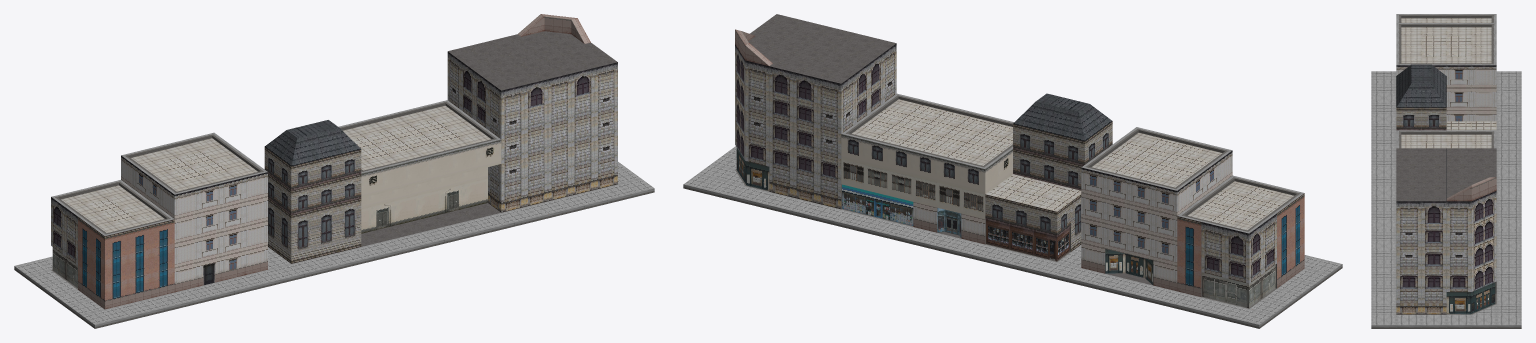
Rendered from building_09_smooth.glb.
The picture shows the model from 3 angles, left to right: view 1: azimuth 30°, elevation 25°; view 2: azimuth 150°, elevation 25°; view 3: azimuth 270°, elevation 25°; orthographic projection. The views are drawn at different scales.
Visible parts, largest first — view 1: building_09_smooth2; view 2: building_09_smooth2; view 3: building_09_smooth2.
Part boxes in pixels (bbox=[...]): building_09_smooth2: bbox=[14, 14, 654, 328]; building_09_smooth2: bbox=[683, 14, 1342, 328]; building_09_smooth2: bbox=[1371, 14, 1521, 328].
Size of the model in its own units: 120 by 28.78 by 30.
1 material, 1 textured.
